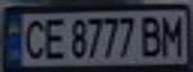7: (84, 15, 106, 58), (118, 14, 139, 58), (103, 14, 121, 58)
8: (66, 15, 87, 60)
B: (136, 12, 166, 57)
C: (18, 16, 48, 62)
E: (39, 15, 69, 61)
M: (157, 12, 187, 57)
